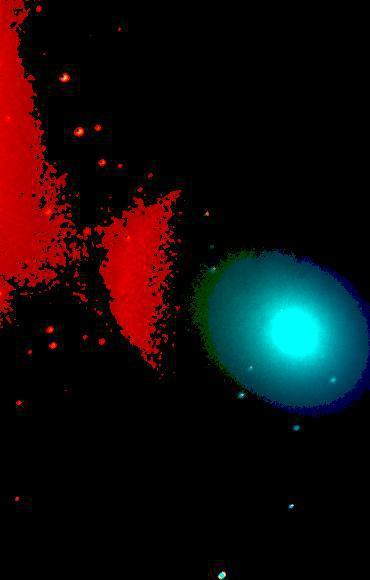star: (256, 331, 286, 361)
